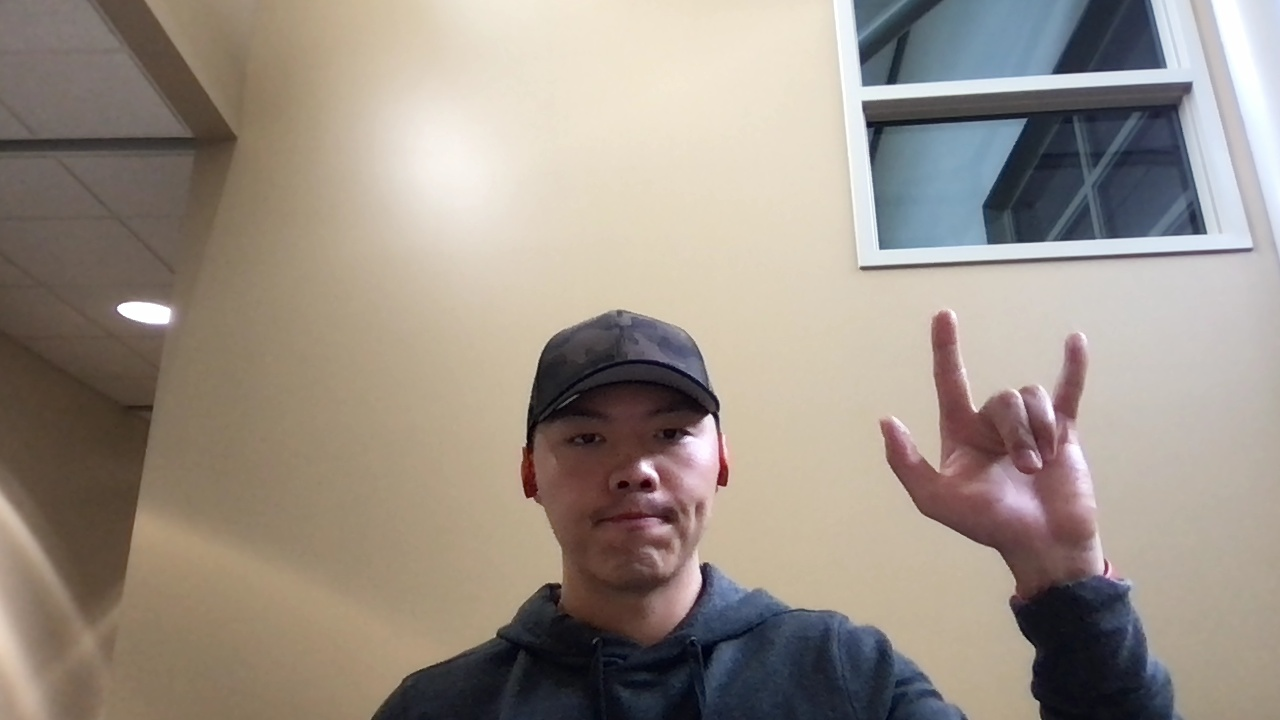I Love You: (877, 305, 1117, 552)
